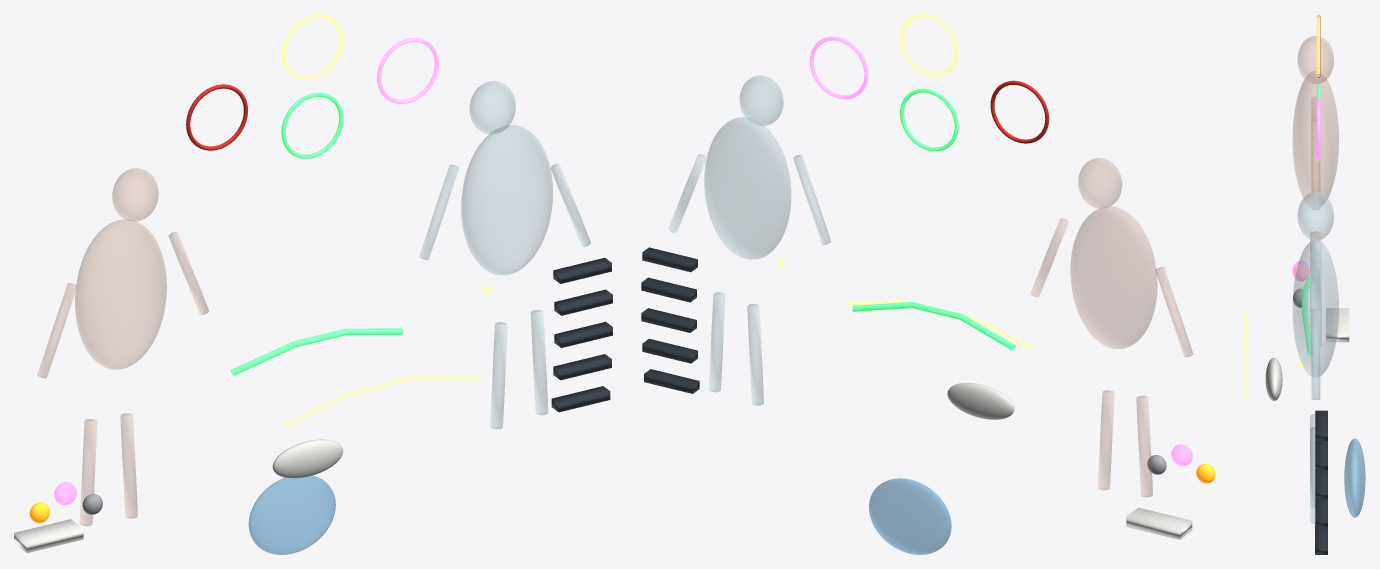
Rendered from shs_psy_medicale_premium.glb.
3 renders of one model, left to right at view 1: azimuth 30°, elevation 25°; view 2: azimuth 150°, elevation 25°; view 3: azimuth 270°, elevation 25°, orthographic. The views are drawn at different scales.
Visible parts, largest first — view 1: BODY_patient_thorax_abdomen, BODY_medecin_thorax_abdomen, INFO_personnalite_iceberg_inconscient, INFO_personnalite_iceberg_conscient, BODY_patient_tete, BODY_medecin_tete, SCENE_lit_hopital, BODY_medecin_jambe_gauche, BODY_patient_jambe_droite, BODY_medecin_jambe_droite, RELATION_medecin_malade_alliance, BODY_patient_jambe_gauche (+14 smaller); view 2: BODY_medecin_thorax_abdomen, BODY_patient_thorax_abdomen, INFO_personnalite_iceberg_inconscient, INFO_personnalite_iceberg_conscient, BODY_patient_tete, BODY_medecin_tete, SCENE_lit_hopital, BODY_medecin_jambe_gauche, BODY_patient_jambe_gauche, BODY_patient_jambe_droite, BODY_medecin_jambe_droite, RELATION_medecin_malade_alliance (+13 smaller); view 3: BODY_medecin_thorax_abdomen, BODY_patient_thorax_abdomen, BODY_medecin_tete, INFO_personnalite_iceberg_inconscient, BODY_patient_tete, SCENE_lit_hopital, BODY_medecin_bras_droit, BODY_patient_bras_droit, INFO_personnalite_iceberg_conscient, BODY_medecin_bras_gauche, BODY_medecin_jambe_droite, RELATION_medecin_malade_alliance (+11 smaller).
Part boxes in pixels (box(x1,y1,x2,y2)): BODY_patient_thorax_abdomen: box(75, 219, 166, 369); BODY_medecin_thorax_abdomen: box(461, 125, 552, 274); INFO_personnalite_iceberg_inconscient: box(248, 475, 335, 554); INFO_personnalite_iceberg_conscient: box(272, 439, 343, 478); BODY_patient_tete: box(112, 168, 158, 221); BODY_medecin_tete: box(469, 81, 515, 134); SCENE_lit_hopital: box(14, 519, 83, 553); BODY_medecin_jambe_gauche: box(490, 322, 507, 428); BODY_patient_jambe_droite: box(120, 413, 137, 518); BODY_medecin_jambe_droite: box(531, 310, 547, 414); RELATION_medecin_malade_alliance: box(231, 328, 403, 375); BODY_patient_jambe_gauche: box(80, 419, 96, 525); BODY_medecin_thorax_abdomen: box(704, 117, 791, 259); BODY_patient_thorax_abdomen: box(1070, 206, 1157, 348); INFO_personnalite_iceberg_inconscient: box(869, 478, 951, 554); INFO_personnalite_iceberg_conscient: box(947, 383, 1014, 419); BODY_patient_tete: box(1078, 158, 1121, 208); BODY_medecin_tete: box(740, 75, 783, 125); SCENE_lit_hopital: box(1126, 507, 1192, 539); BODY_medecin_jambe_gauche: box(747, 304, 763, 405); BODY_patient_jambe_gauche: box(1136, 396, 1152, 496); BODY_patient_jambe_droite: box(1098, 390, 1114, 489); BODY_medecin_jambe_droite: box(709, 292, 725, 391); RELATION_medecin_malade_alliance: box(852, 302, 1015, 350); BODY_medecin_thorax_abdomen: box(1293, 240, 1338, 377); BODY_patient_thorax_abdomen: box(1293, 71, 1338, 206); BODY_medecin_tete: box(1298, 192, 1333, 240); INFO_personnalite_iceberg_inconscient: box(1344, 438, 1365, 517); BODY_patient_tete: box(1298, 36, 1333, 83); SCENE_lit_hopital: box(1326, 308, 1349, 342); BODY_medecin_bras_droit: box(1311, 311, 1319, 399); BODY_patient_bras_droit: box(1311, 121, 1319, 209); INFO_personnalite_iceberg_conscient: box(1265, 357, 1282, 400); BODY_medecin_bras_gauche: box(1311, 241, 1319, 308); BODY_medecin_jambe_droite: box(1310, 427, 1315, 523); RELATION_medecin_malade_alliance: box(1302, 276, 1312, 355).
Bounding box in the file's own units: 5.73 × 5.13 × 1.14.
